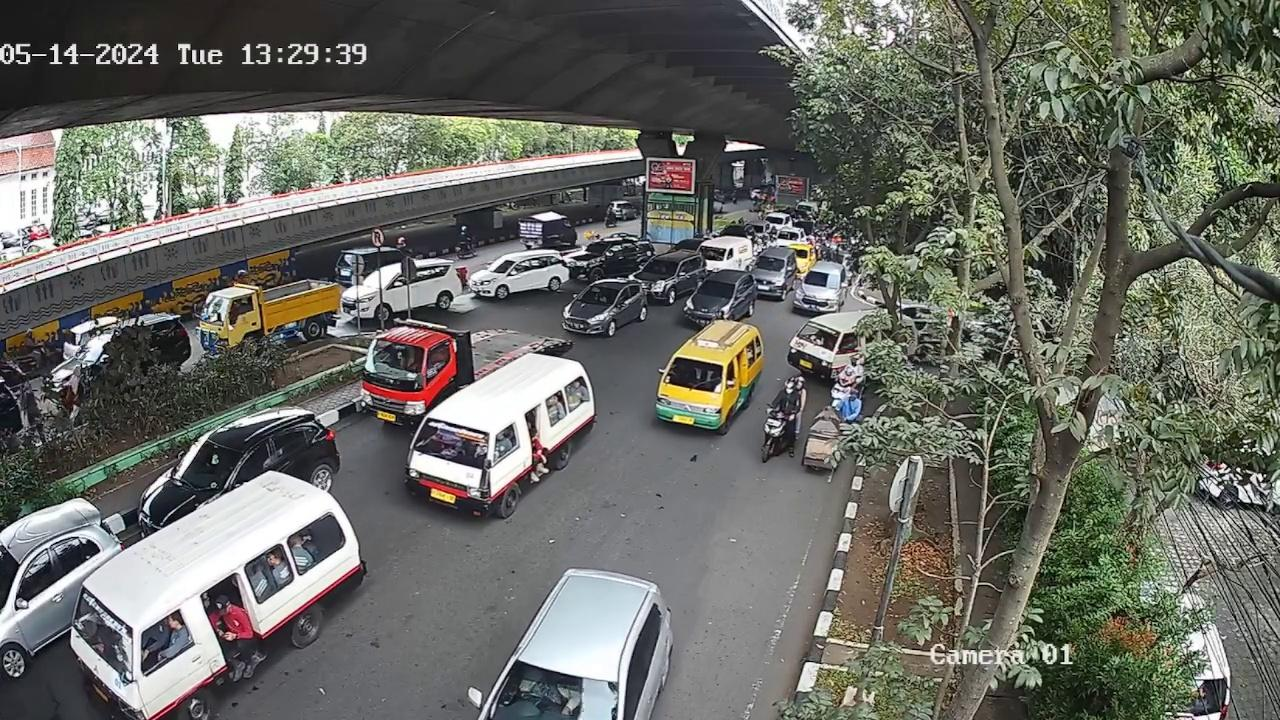tidak-pakai: (523, 675, 574, 710)
windshield: (492, 662, 618, 720), (410, 409, 499, 470), (178, 437, 240, 487), (368, 336, 433, 380), (662, 354, 728, 394)
